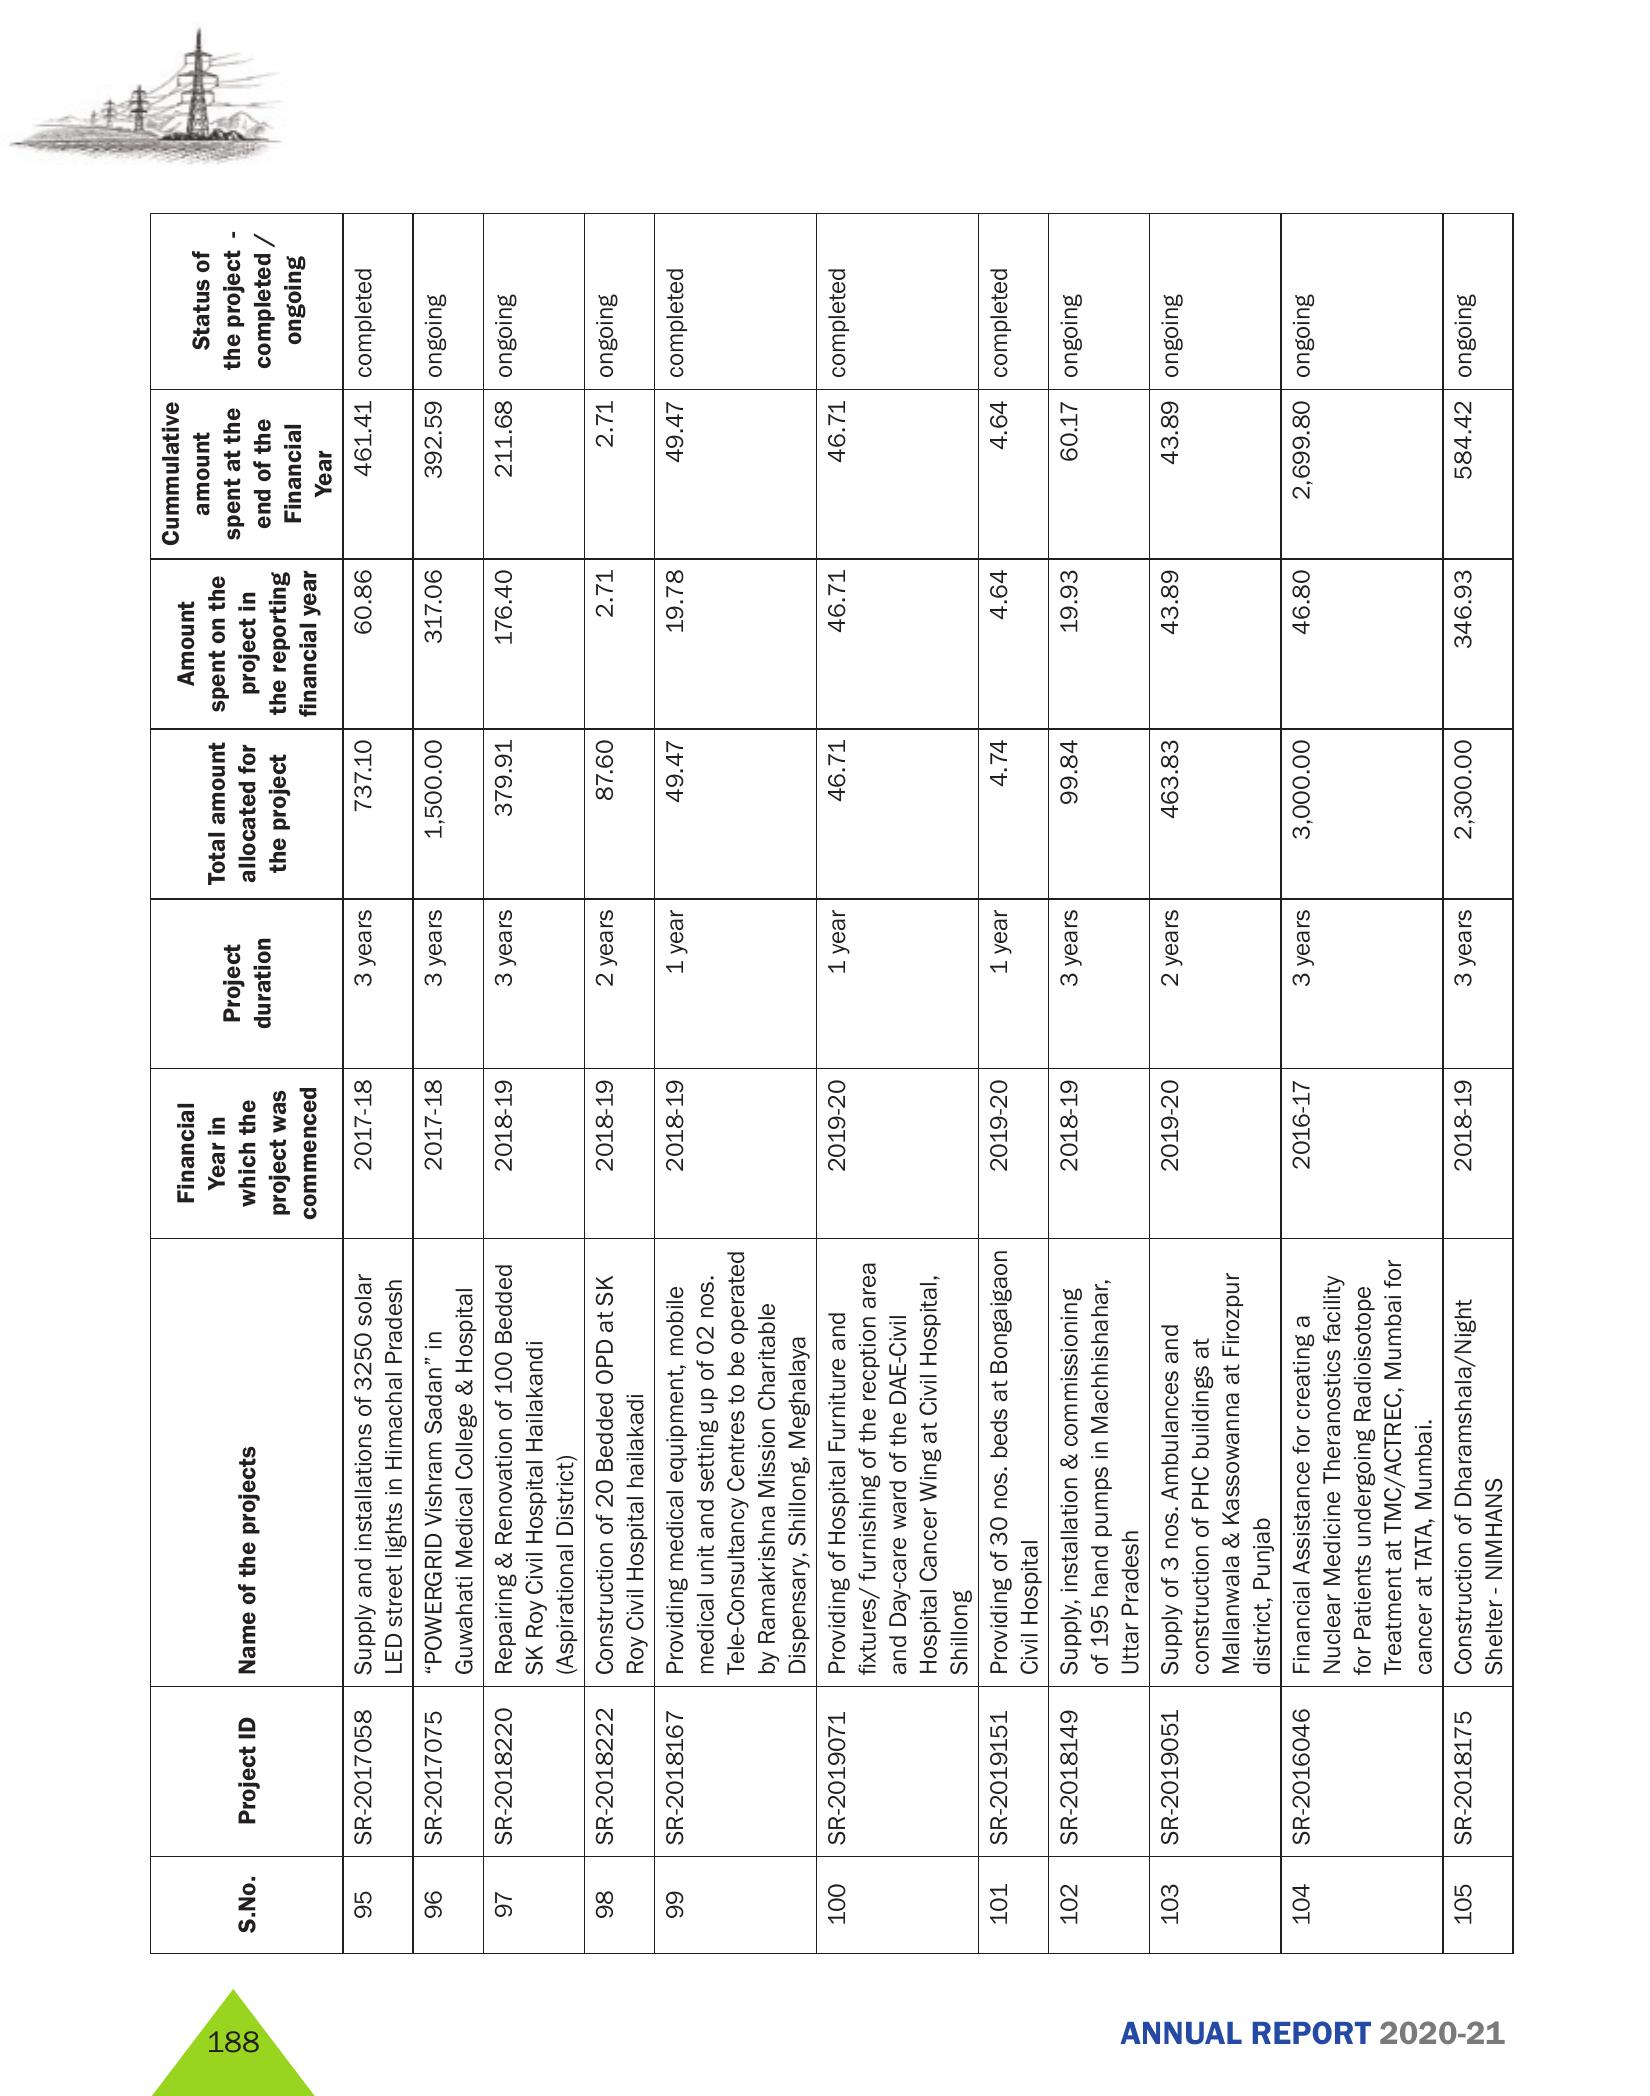Footer: (0, 1974, 1650, 2096)
Header: (0, 0, 1650, 180)
Table: (94, 213, 1536, 1956)
